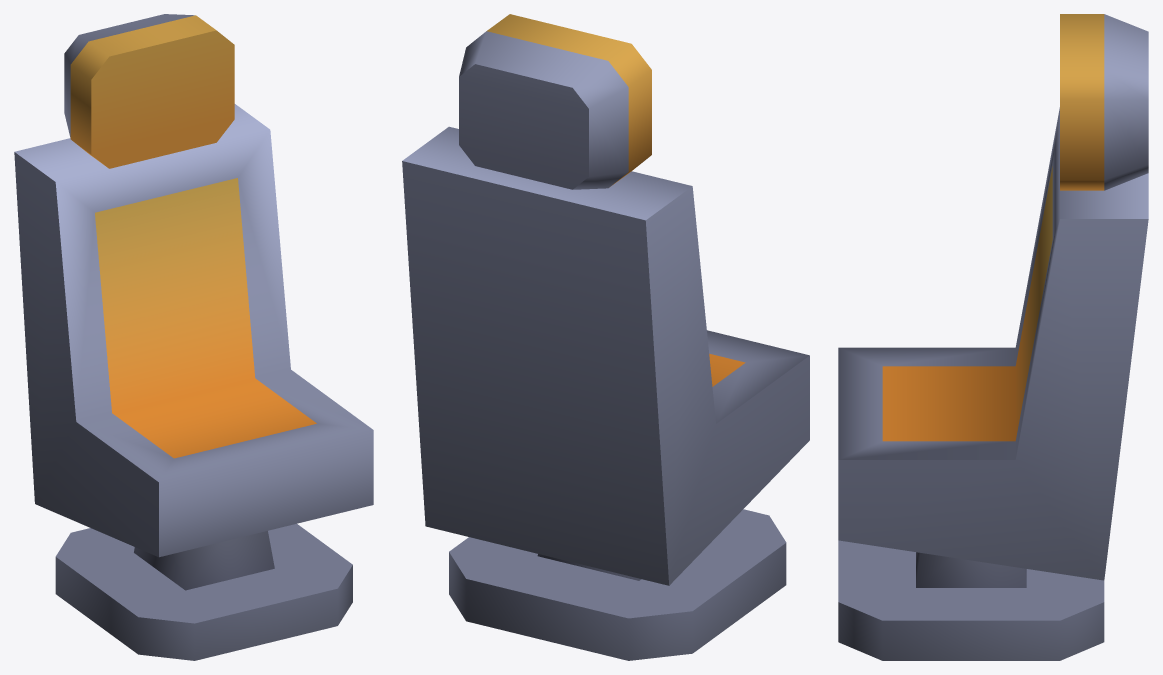
Rendered from chair-cushion-headrest.glb.
The picture shows the model from 3 angles, left to right: view 1: azimuth 30°, elevation 25°; view 2: azimuth 150°, elevation 25°; view 3: azimuth 270°, elevation 25°; orthographic projection. The views are drawn at different scales.
Visible parts, largest first — view 1: chair-cushion-headrest; view 2: chair-cushion-headrest; view 3: chair-cushion-headrest.
Boxes of the visible parts, x1,y1,x2,y2 form: chair-cushion-headrest: (14,14,373,660); chair-cushion-headrest: (402,14,809,660); chair-cushion-headrest: (838,14,1148,660).
Size of the model in its own units: 0.3 by 0.7 by 0.3499.
